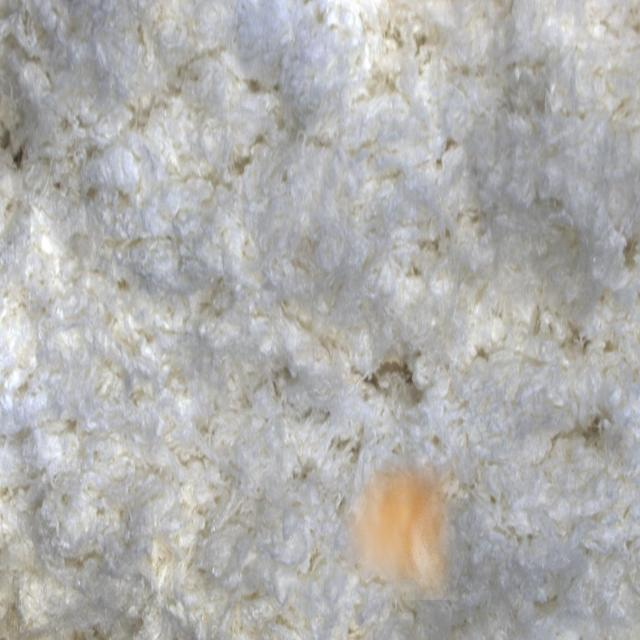dust: (342, 449, 462, 600)
